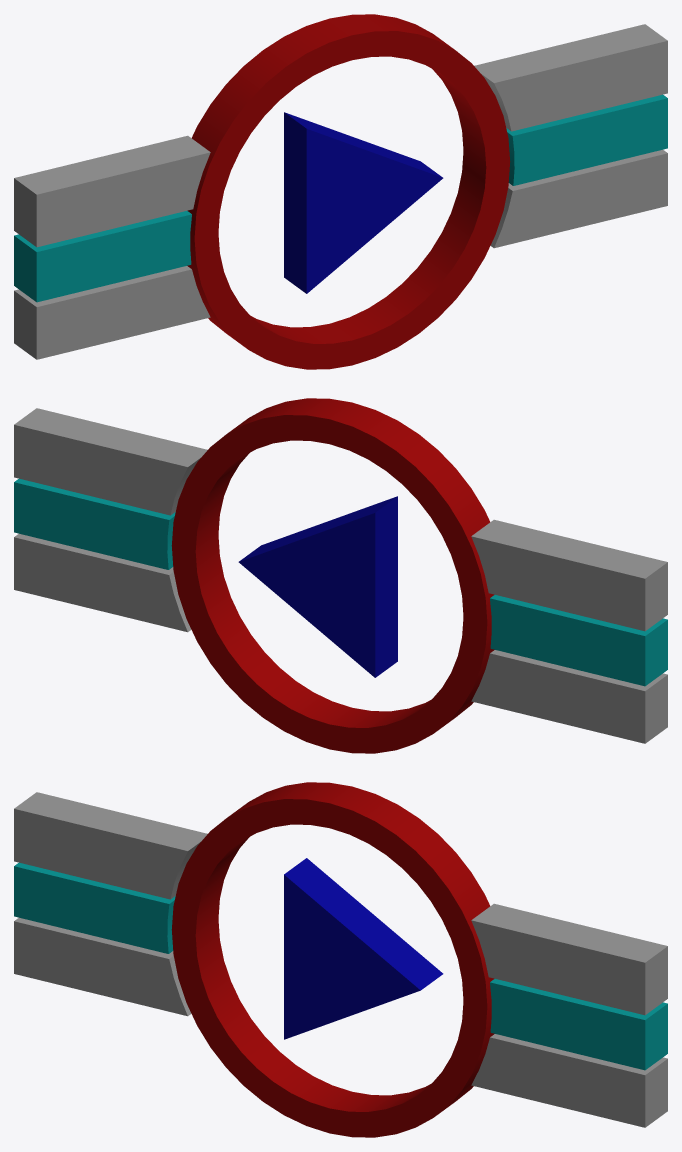
The model's file is Play_button_V01.FBX.
3 renders of one model, top to bottom at view 1: azimuth 30°, elevation 25°; view 2: azimuth 150°, elevation 25°; view 3: azimuth 330°, elevation 25°, orthographic.
Visible parts, largest first — view 1: play button V01; view 2: play button V01; view 3: play button V01.
Boxes of the visible parts, box(x1,y1,x2,y2) form: play button V01: box(14, 14, 667, 369); play button V01: box(14, 398, 667, 753); play button V01: box(14, 782, 667, 1137).
Bounding box in the file's own units: 80 × 40 × 5.
